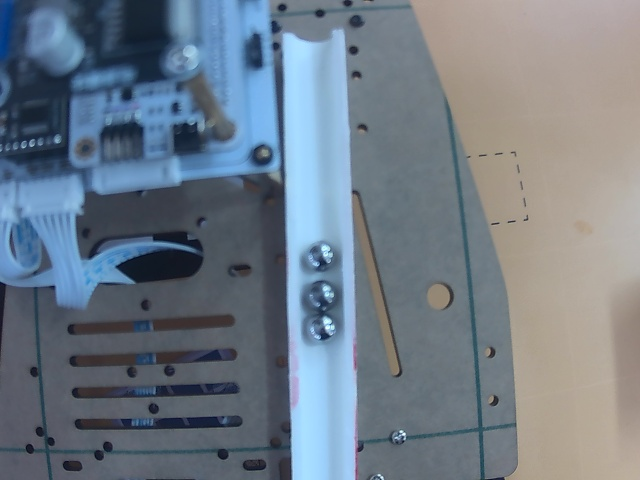steelball: (305, 280, 336, 311), (304, 242, 336, 270), (306, 315, 336, 341)
